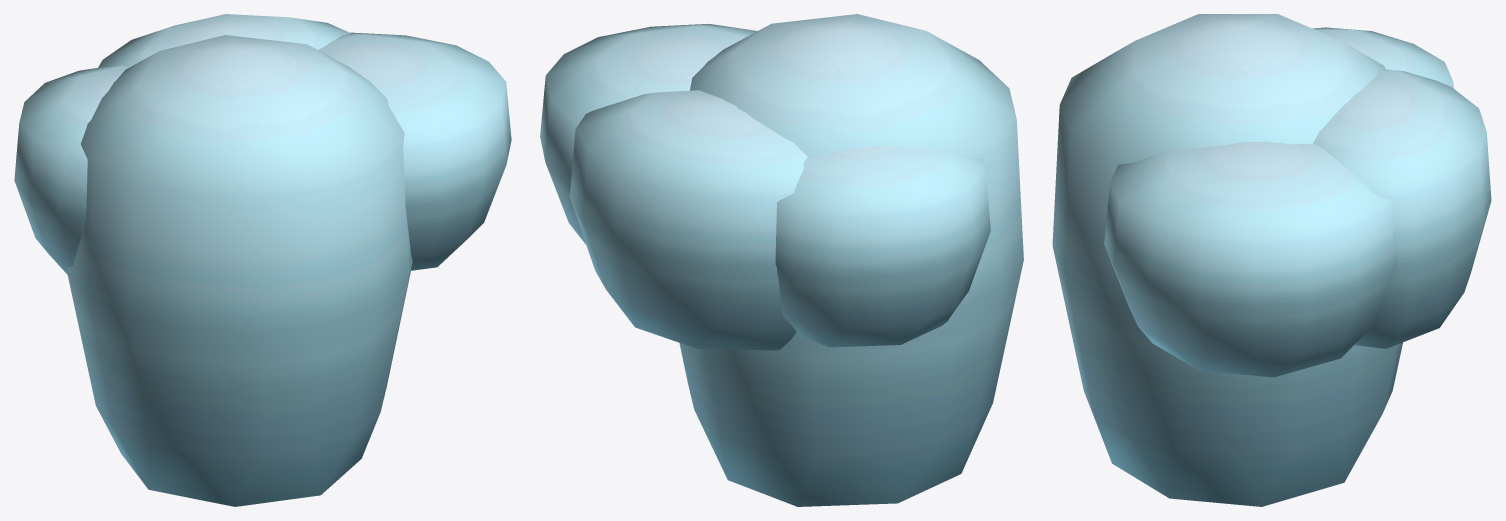
The model's file is FloorDeco2B-001_02_05_6038.fbx.
3 renders of one model, left to right at view 1: azimuth 30°, elevation 25°; view 2: azimuth 150°, elevation 25°; view 3: azimuth 270°, elevation 25°, orthographic. The views are drawn at different scales.
Visible parts, largest first — view 1: Snowpile, Snowpile (3), Snowpile (2), Snowpile (1); view 2: Snowpile, Snowpile (1), Snowpile (2), Snowpile (3); view 3: Snowpile, Snowpile (3), Snowpile (1), Snowpile (2).
Part boxes in pixels (x1,y1,x2,y2): Snowpile: (66, 35, 412, 506); Snowpile (3): (318, 32, 511, 270); Snowpile (2): (14, 65, 129, 274); Snowpile (1): (98, 14, 350, 67); Snowpile: (679, 14, 1023, 506); Snowpile (1): (570, 90, 807, 350); Snowpile (2): (775, 145, 990, 347); Snowpile (3): (540, 23, 757, 244); Snowpile: (1052, 14, 1402, 506); Snowpile (3): (1104, 141, 1396, 377); Snowpile (1): (1313, 69, 1491, 348); Snowpile (2): (1313, 27, 1453, 88).
Bounding box in the file's own units: 2.8 × 2.51 × 2.35.
